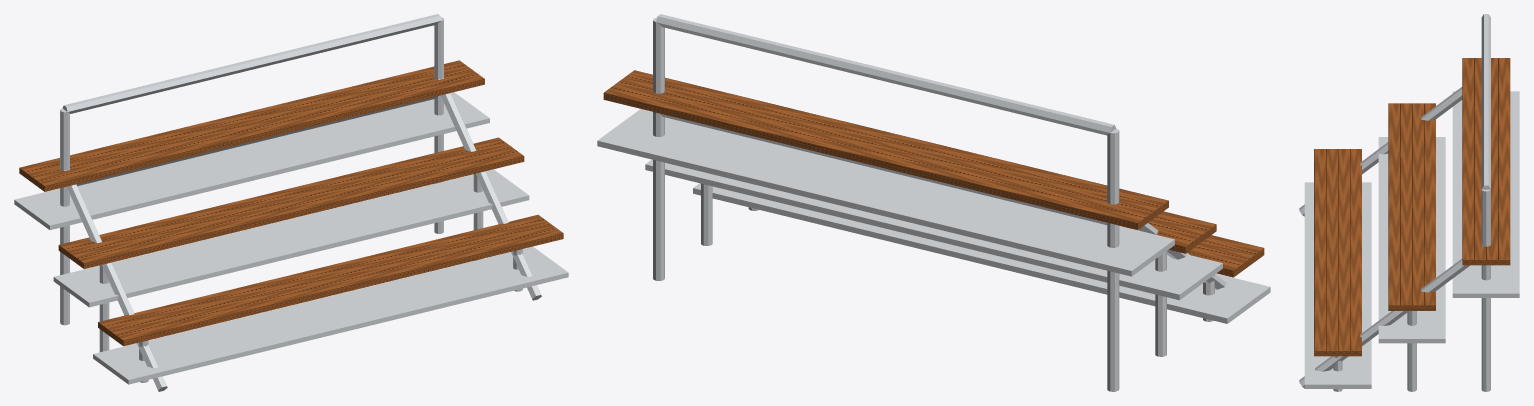
The model's file is bleacher.glb.
3 renders of one model, left to right at view 1: azimuth 30°, elevation 25°; view 2: azimuth 150°, elevation 25°; view 3: azimuth 270°, elevation 25°, orthographic. The views are drawn at different scales.
Parts seen in each view (by area): view 1: spectator-bleacher-steel, spectator-bleacher-maple; view 2: spectator-bleacher-steel, spectator-bleacher-maple; view 3: spectator-bleacher-maple, spectator-bleacher-steel.
Boxes of the visible parts, x1=… form: spectator-bleacher-steel: x1=14, y1=14, x2=568, y2=391; spectator-bleacher-maple: x1=19, y1=60, x2=563, y2=346; spectator-bleacher-steel: x1=597, y1=14, x2=1270, y2=391; spectator-bleacher-maple: x1=603, y1=70, x2=1264, y2=277; spectator-bleacher-maple: x1=1314, y1=58, x2=1510, y2=356; spectator-bleacher-steel: x1=1299, y1=14, x2=1519, y2=391.
Bounding box in the file's own units: 4 × 1.88 × 1.84.
Materials: 2 (1 with a texture image).
